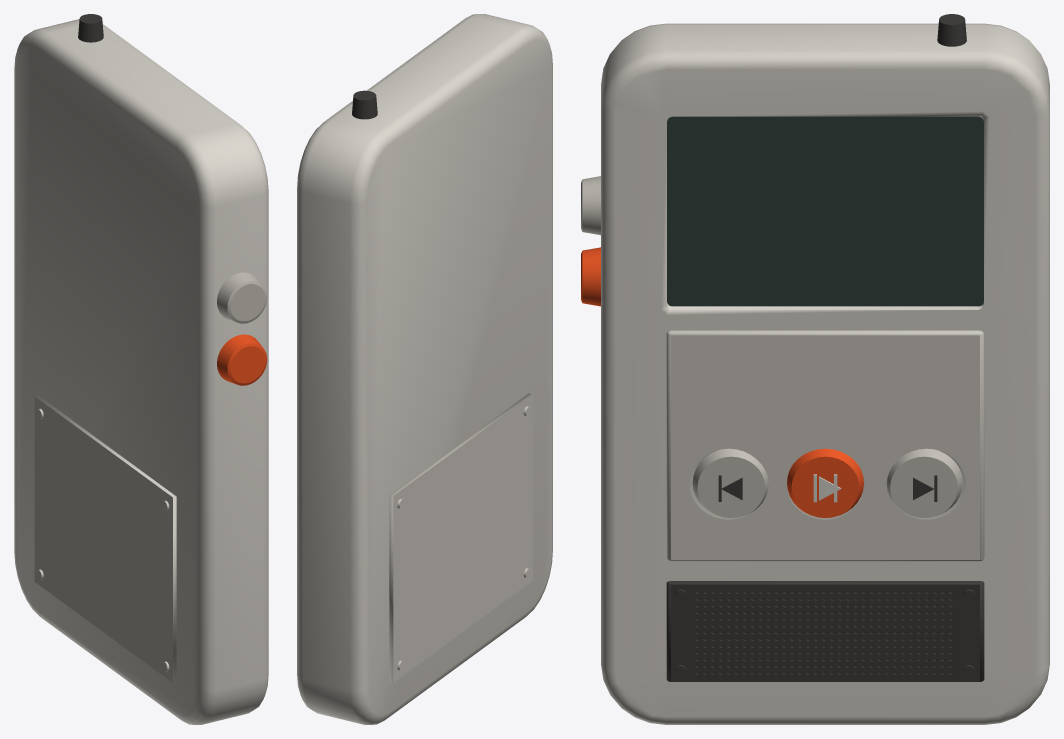
File: walkman.glb
3 renders of one model, left to right at view 1: azimuth 30°, elevation 25°; view 2: azimuth 150°, elevation 25°; view 3: azimuth 270°, elevation 25°, orthographic. The views are drawn at different scales.
Parts seen in each view (by area): view 1: Body; view 2: Body; view 3: Body, Screen, Prev, Next, Pause, Play.
Part boxes in pixels (x1=…): Body: x1=14, y1=14, x2=268, y2=724; Body: x1=297, y1=14, x2=552, y2=724; Body: x1=581, y1=14, x2=1049, y2=724; Screen: x1=667, y1=116, x2=983, y2=306; Prev: x1=692, y1=448, x2=768, y2=517; Next: x1=886, y1=448, x2=962, y2=517; Pause: x1=787, y1=448, x2=863, y2=517; Play: x1=787, y1=449, x2=863, y2=515.
Bounding box in the file's own units: 0.5024 × 3.41 × 2.09.
